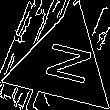N_W: (34, 38, 92, 90)
